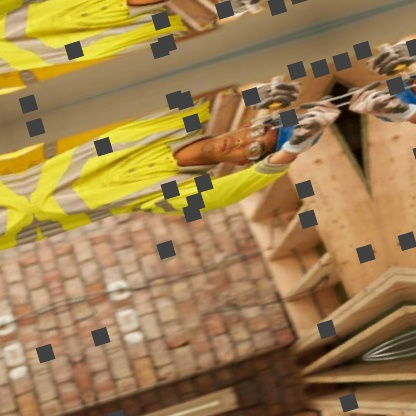vest: (19, 96, 234, 245)
